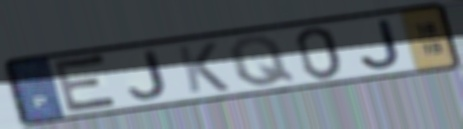0: (292, 24, 345, 82)
E: (51, 52, 123, 116)
J: (358, 17, 405, 71), (126, 48, 170, 101)
K: (173, 40, 232, 95)
Q: (226, 34, 299, 89)
